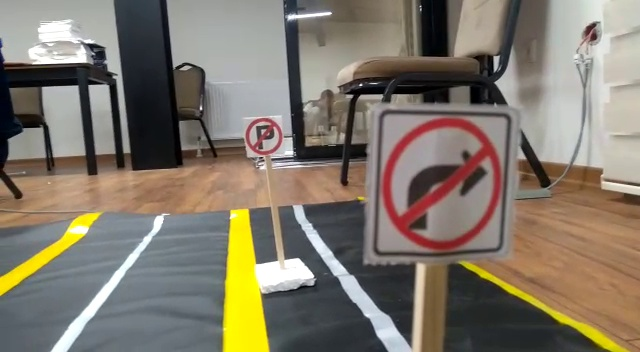park_yapilmaz: (243, 118, 285, 154)
saga_donulmez: (374, 104, 506, 252)
